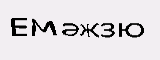Б: (47, 19, 56, 41)
Ж: (54, 16, 82, 42)
Т: (116, 19, 136, 45)
Ч: (36, 19, 47, 40)
Ш: (81, 13, 116, 44)
